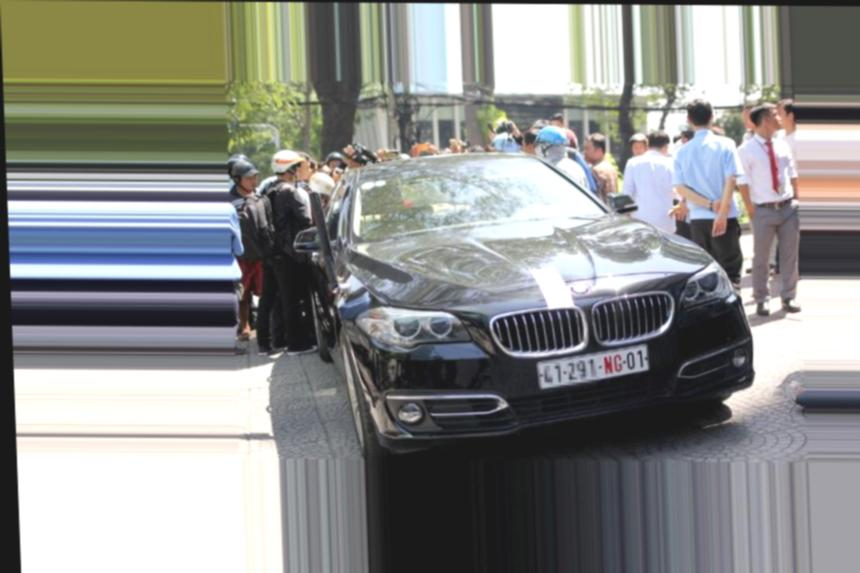License_Plate: (532, 345, 653, 387)
